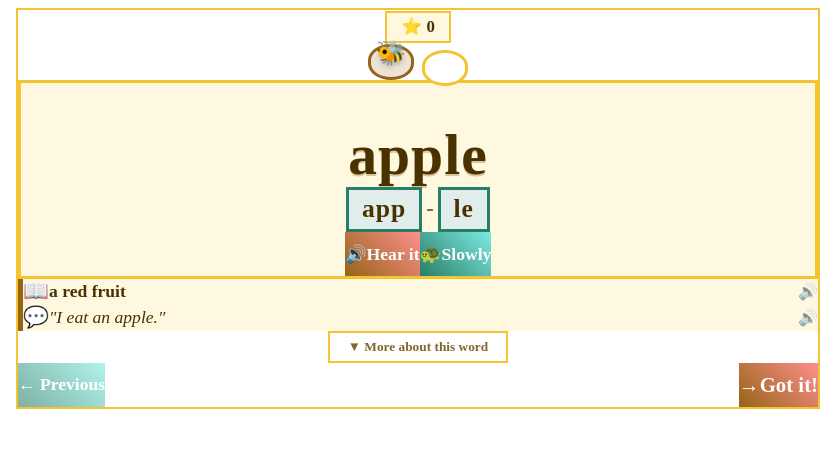
it: LearnMode Component › only banks a word after its quick check is answered
# "Got it!" opens the check — the word does NOT count yet.
Click the button "→ Got it!" at (778, 384), box [739,362,818,406]
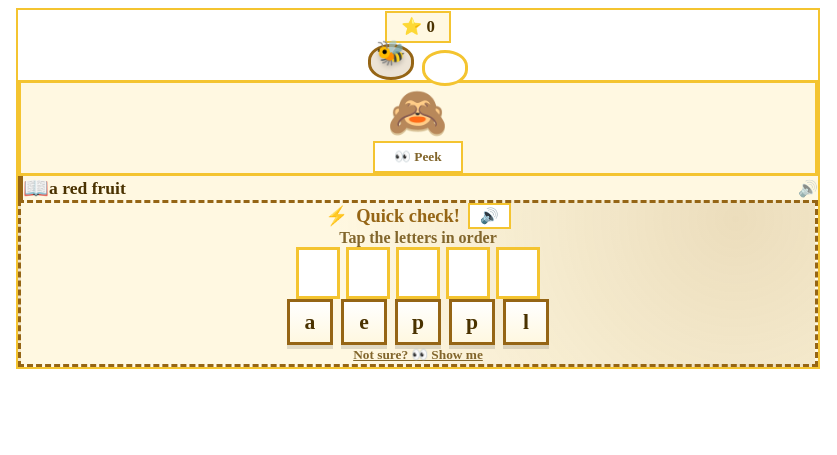
Result: the text "⚡ Quick check! 🔊" is shown at [325,203,511,229]
Click the button "Not sure? 👀 Show me" at (418, 355), box [347,346,489,364]
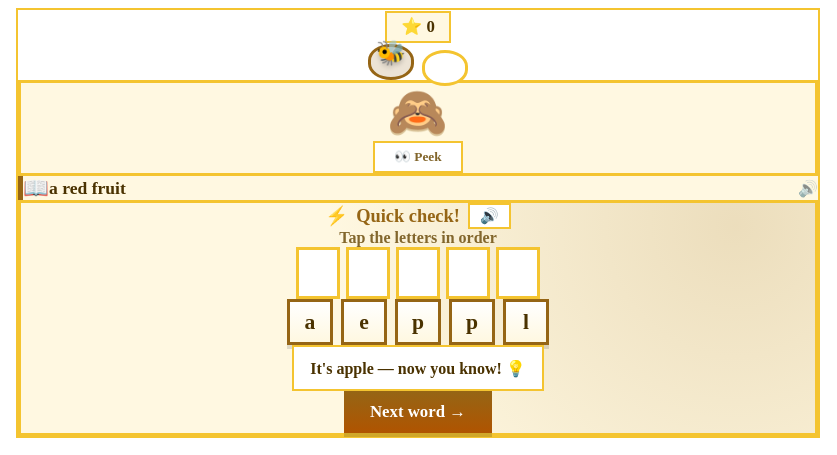
Click the button "Next word →" at (418, 412), box [344,391,492,433]
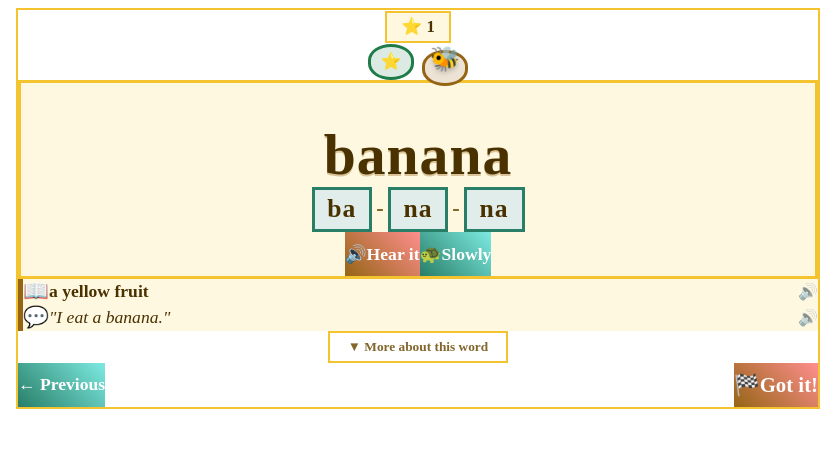
Result: the heading "banana" is shown at [324,123,512,186]
Result: the text "a yellow fruit" is shown at [49,281,149,302]
